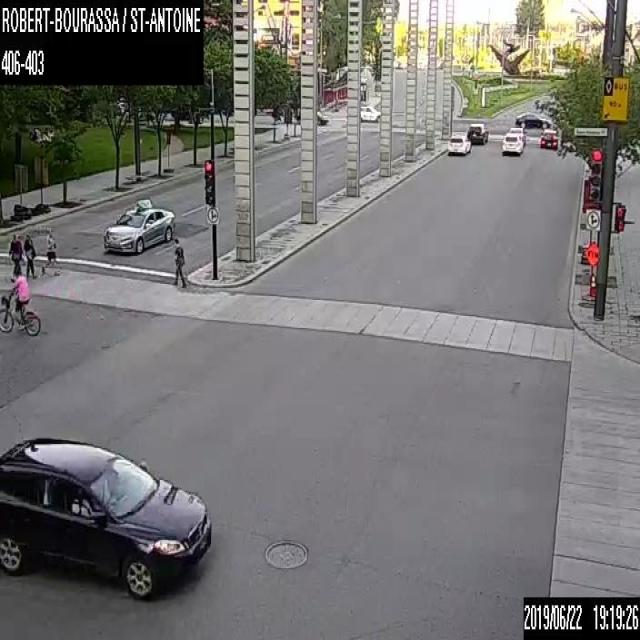construction: (580, 239, 598, 302), (588, 270, 596, 300)
cyclist: (0, 263, 41, 336)
pedestrian: (41, 225, 58, 275), (8, 232, 24, 280), (23, 232, 37, 280), (173, 237, 185, 287)
vehicle: (0, 436, 210, 601), (103, 197, 175, 252), (515, 110, 551, 128), (500, 132, 522, 155), (447, 132, 470, 154), (466, 121, 487, 144), (296, 109, 328, 124), (539, 128, 559, 149), (507, 126, 527, 144), (359, 103, 380, 120)
